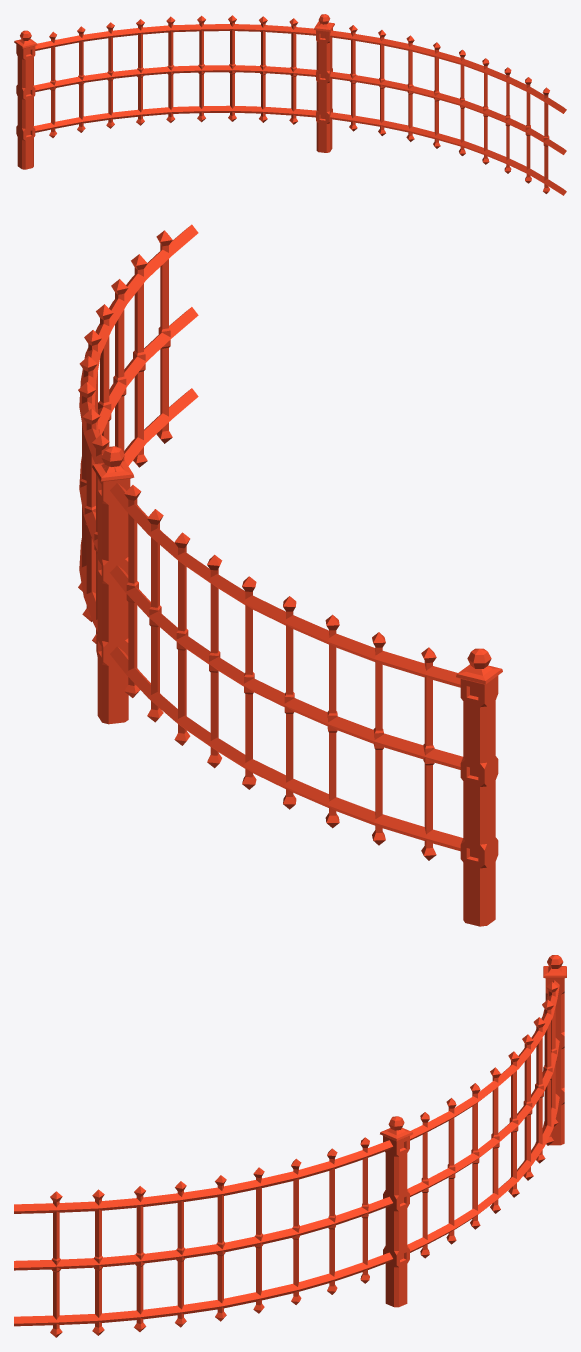
Rendered from SM_Fence_Small_Corner_3m_City.fbx.
The picture shows the model from 3 angles, top to bottom: view 1: azimuth 30°, elevation 25°; view 2: azimuth 150°, elevation 25°; view 3: azimuth 270°, elevation 25°; orthographic projection. The views are drawn at different scales.
Parts seen in each view (by area): view 1: SM_Fence_Small_Corner_3m_City; view 2: SM_Fence_Small_Corner_3m_City; view 3: SM_Fence_Small_Corner_3m_City.
Boxes of the visible parts, x1=… form: SM_Fence_Small_Corner_3m_City: x1=14, y1=14, x2=566, y2=195; SM_Fence_Small_Corner_3m_City: x1=78, y1=224, x2=502, y2=926; SM_Fence_Small_Corner_3m_City: x1=14, y1=955, x2=566, y2=1337.
Size of the model in its own units: 3.1 by 1.14 by 3.07.
